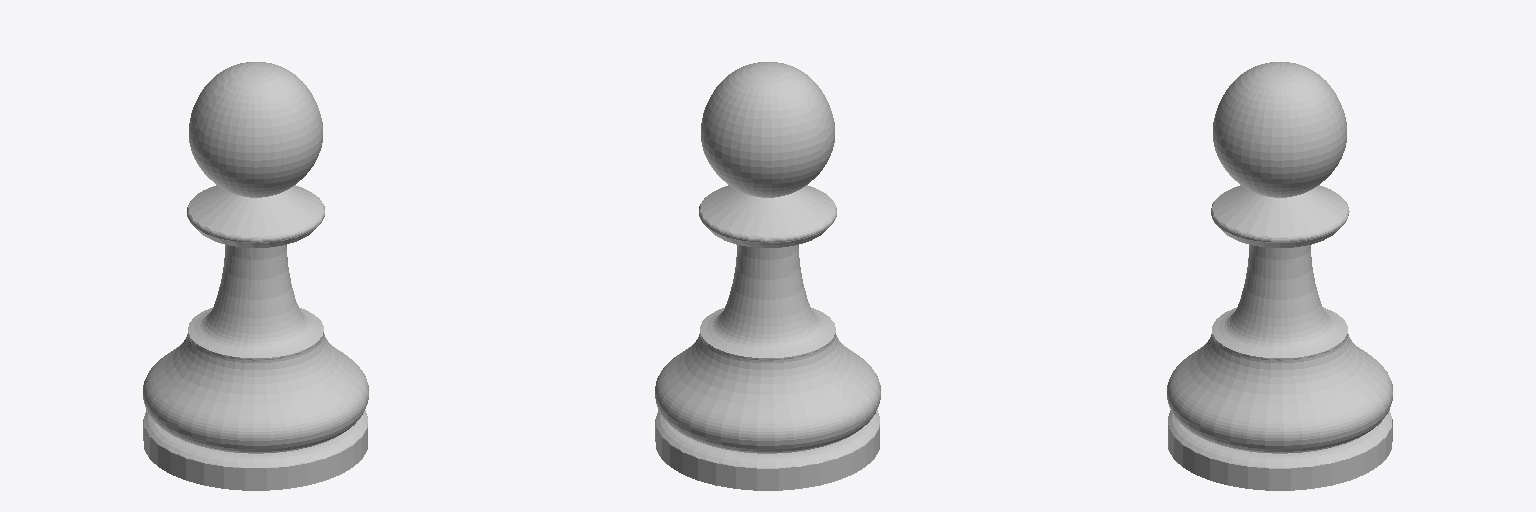
The model's file is pawn_black.obj.
3 renders of one model, left to right at view 1: azimuth 30°, elevation 25°; view 2: azimuth 150°, elevation 25°; view 3: azimuth 270°, elevation 25°, orthographic.
Parts seen in each view (by area): view 1: Body10; view 2: Body10; view 3: Body10.
Part boxes in pixels (x1,y1,x2,y2): Body10: (143, 62, 368, 490); Body10: (655, 62, 880, 490); Body10: (1167, 62, 1392, 490).
Bounding box in the file's own units: 3.07 × 5.6 × 3.07.